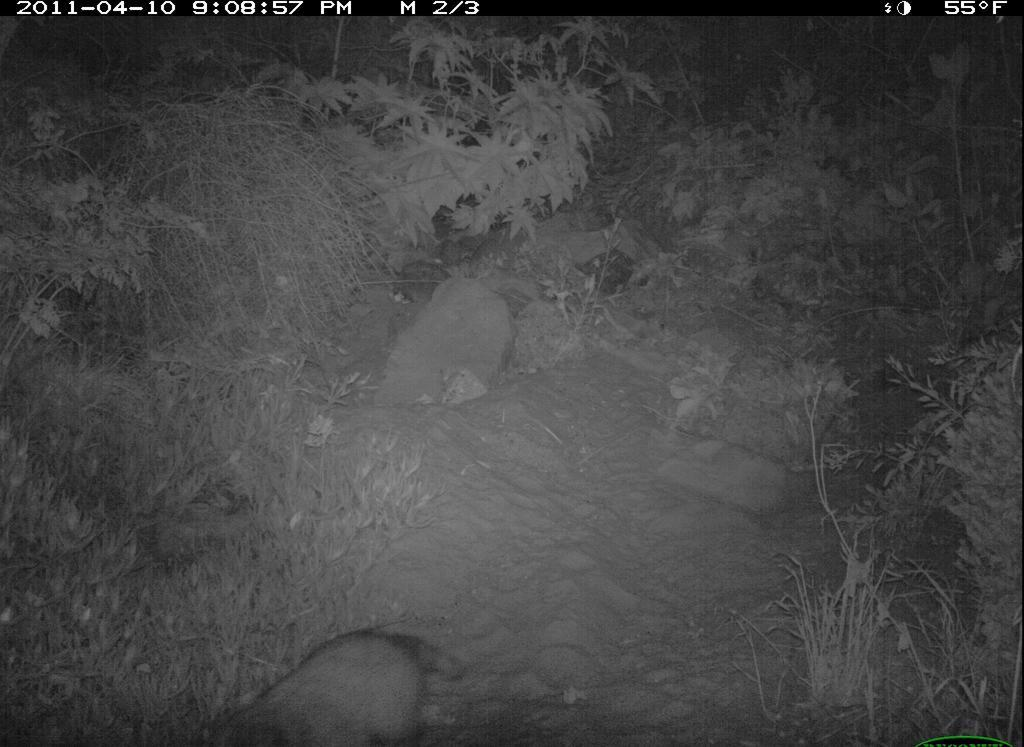raccoon: (159, 625, 450, 747)
